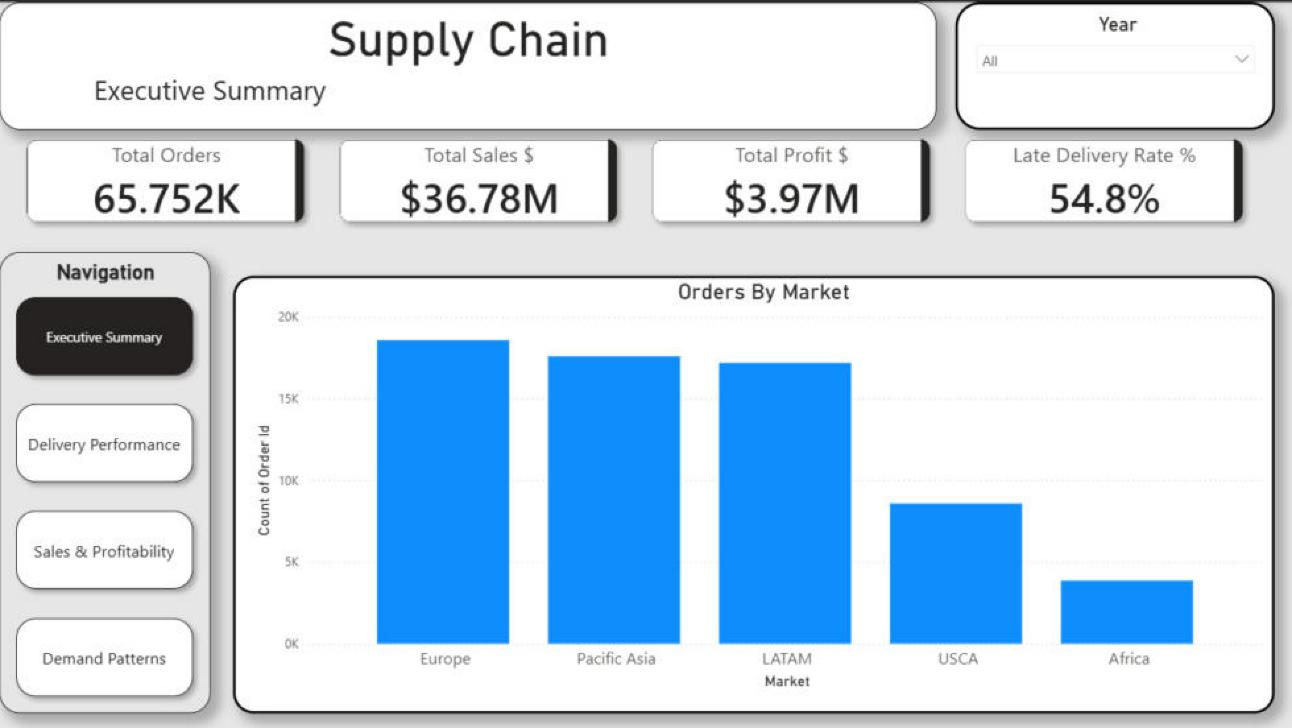

The page's visual inventory and layout, read from the dashboard file:
{"tool":"powerbi","page":{"name":"Executive Summary","canvas":[1280,720],"ordinal":0},"visuals":[{"type":"textbox","title":"Supply Chain","box":[7.2,0,920.1,125.9],"z":0},{"type":"cardVisual","title":"Total Orders","fields":{"Data":["Count(cleaned_supply_chain.Order Id)","cleaned_supply_chain.Total Sales $","cleaned_supply_chain.Total Profit $","cleaned_supply_chain.Late Delivery Rate %"]},"box":[4.3,105.6,1255.7,140.3],"z":0,"group":"g1"},{"type":"columnChart","title":"Orders By Market","fields":{"Category":["cleaned_supply_chain.Market"],"Y":["Count(cleaned_supply_chain.Order Id)"]},"box":[237.3,269.1,1022.8,429.7],"z":1000},{"type":"slicer","title":"Year","fields":{"Values":["cleaned_supply_chain.order date (DateOrders).Variation.Date Hierarchy.Year"]},"box":[946.1,0,313.9,125.9],"z":2000},{"type":"group","id":"g1","title":"Group 1","box":[4.3,105.6,1255.7,140.3],"z":3000},{"type":"pageNavigator","title":"Navigation","box":[7.2,245.9,206.9,452.8],"z":4000}]}

Visuals, with their boxes in screenshot pixels (x1, y1, x2, y2), scaled from the page's 1280x720 canvas onto the 1292x728 screenshot:
"Supply Chain" textbox: rect(7, 0, 936, 127)
"Total Orders" cardVisual: rect(4, 107, 1272, 249)
"Orders By Market" columnChart: rect(240, 272, 1272, 707)
"Year" slicer: rect(955, 0, 1272, 127)
"Group 1" group: rect(4, 107, 1272, 249)
"Navigation" pageNavigator: rect(7, 249, 216, 706)
